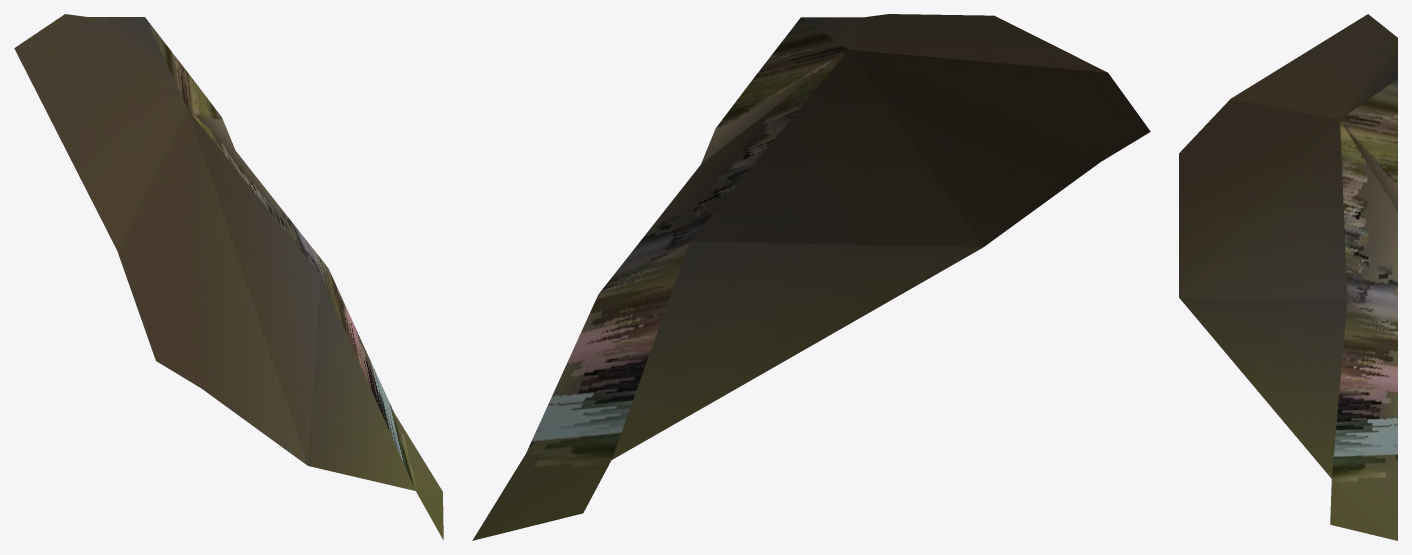
The picture shows the model from 3 angles, left to right: view 1: azimuth 30°, elevation 25°; view 2: azimuth 150°, elevation 25°; view 3: azimuth 270°, elevation 25°; orthographic projection. The views are drawn at different scales.
Bounding box in the file's own units: 1.39 × 1.67 × 0.8742.
Materials: 2 (2 with a texture image).
